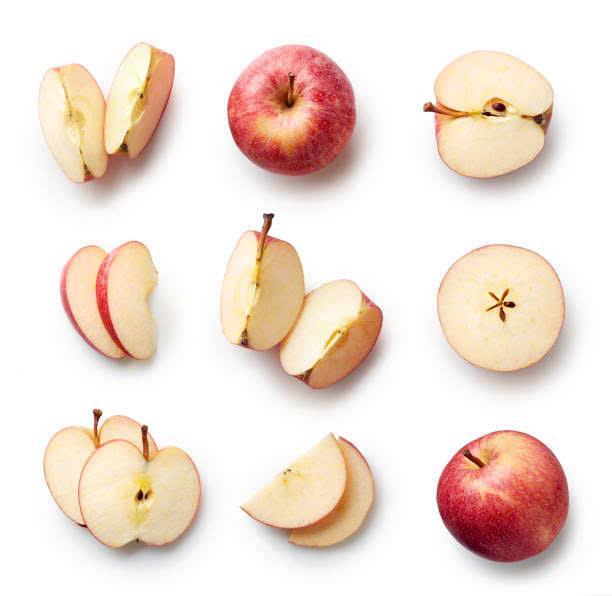apple: (47, 231, 190, 381), (417, 43, 561, 189), (431, 421, 571, 560), (440, 234, 566, 386), (224, 49, 365, 179), (89, 441, 206, 554), (227, 227, 306, 365), (233, 435, 345, 527), (39, 60, 109, 194)
